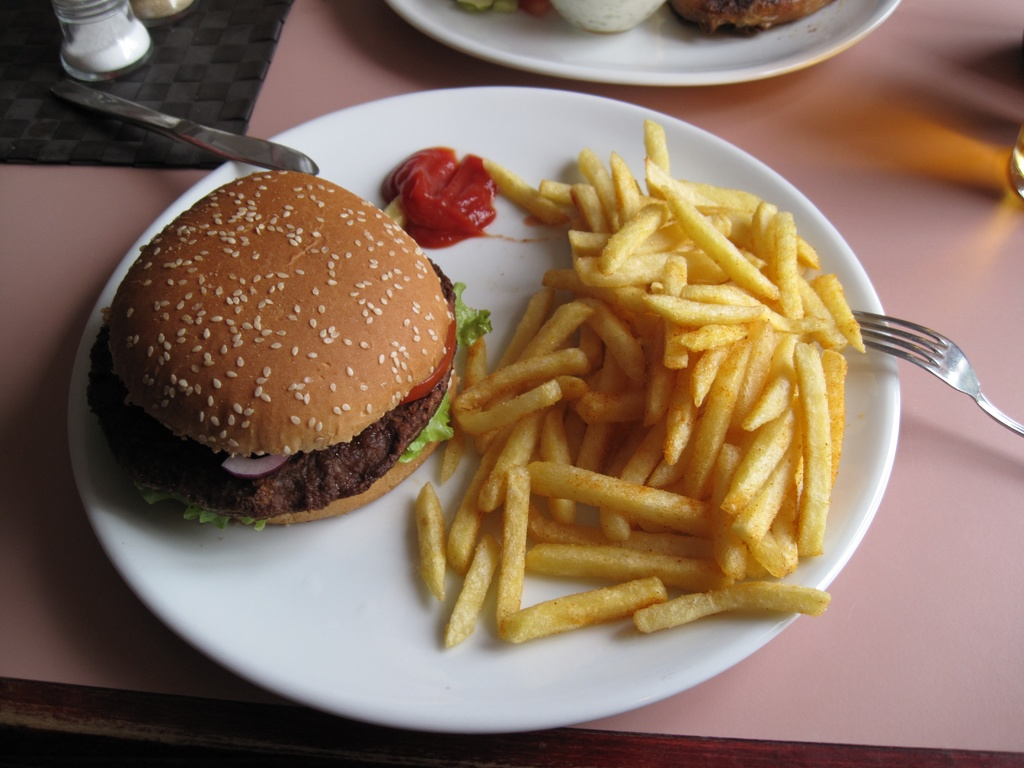French fries: (409, 116, 871, 616)
